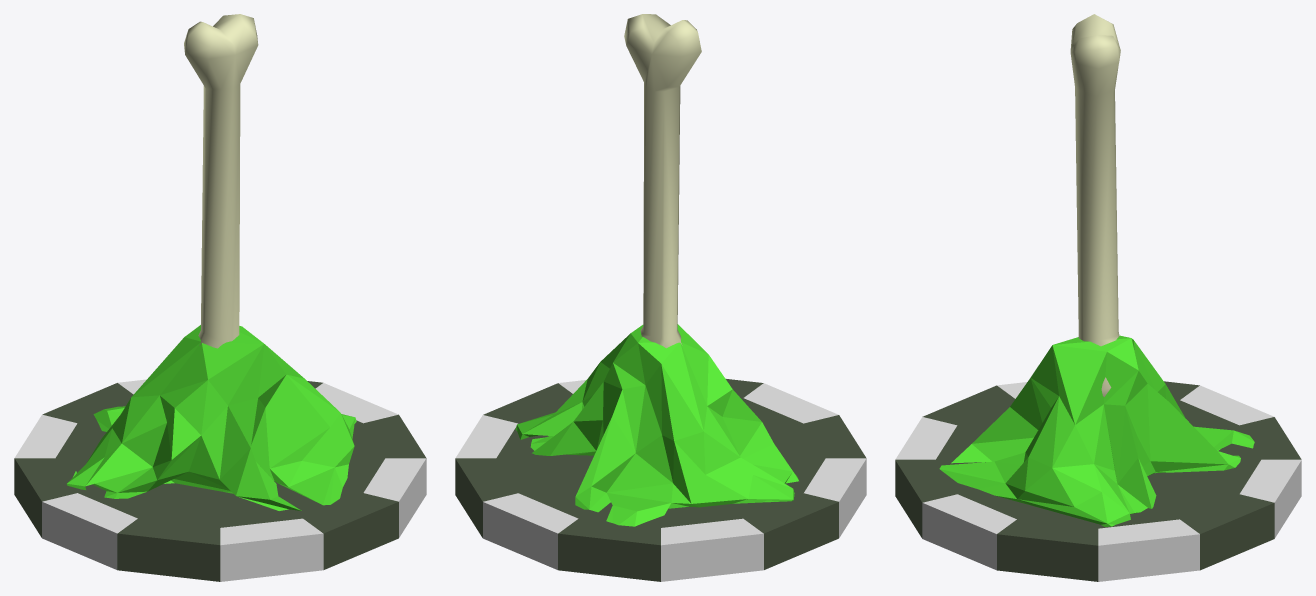
The model's file is Huesov03.fbx.
The picture shows the model from 3 angles, left to right: view 1: azimuth 30°, elevation 25°; view 2: azimuth 150°, elevation 25°; view 3: azimuth 270°, elevation 25°; orthographic projection.
Parts seen in each view (by area): view 1: Circle.001; view 2: Circle.001; view 3: Circle.001.
Part boxes in pixels (x1,y1,x2,y2): Circle.001: [14, 14, 426, 581]; Circle.001: [455, 14, 866, 581]; Circle.001: [895, 14, 1301, 581].
Bounding box in the file's own units: 100 × 128 × 100.
